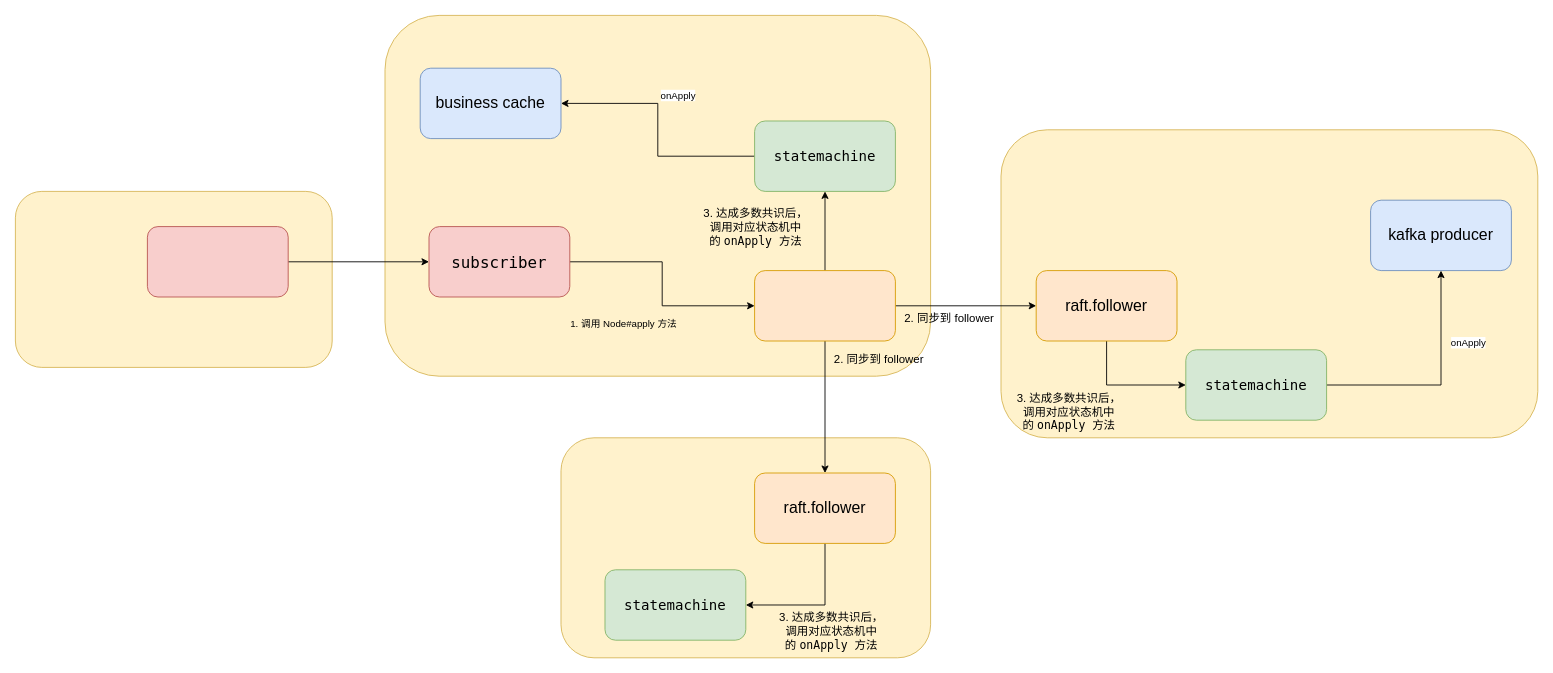
Image size: 1553x673. Some labels were removed from this diagram. The centre of each missing label's shape, as x and y in pixels:
"publisher" belongs at (217,261).
"raft.leader" belongs at (824,305).
